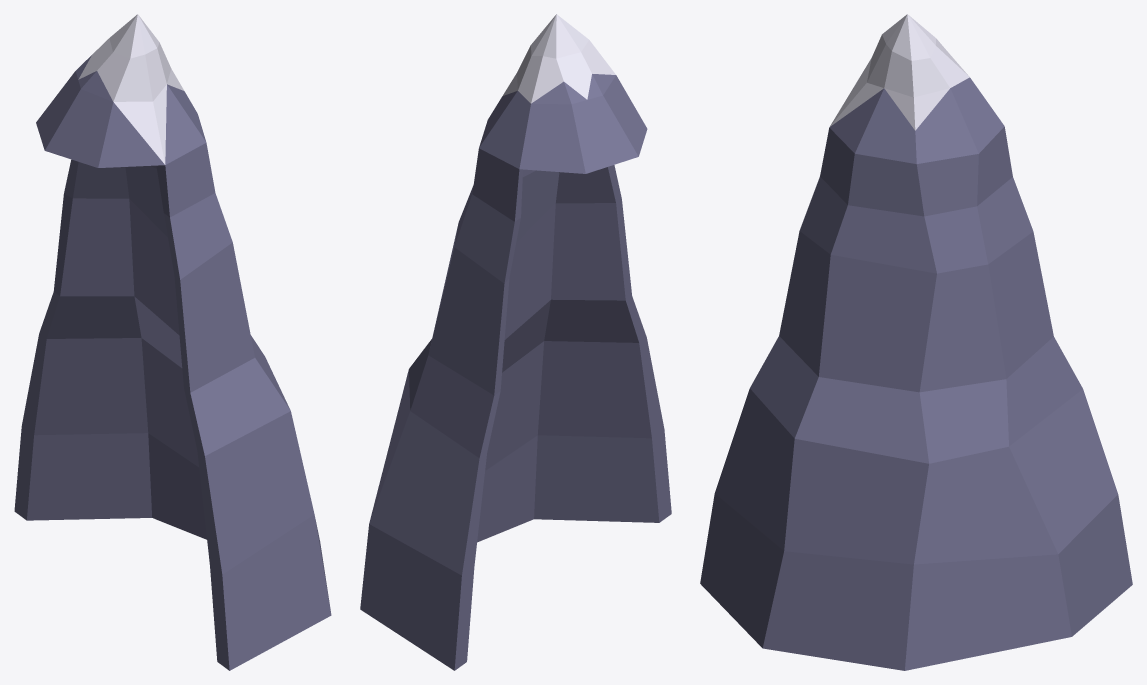
The model's file is mountain.fbx.
The picture shows the model from 3 angles, left to right: view 1: azimuth 30°, elevation 25°; view 2: azimuth 150°, elevation 25°; view 3: azimuth 270°, elevation 25°; orthographic projection.
Visible parts, largest first — view 1: Cylinder; view 2: Cylinder; view 3: Cylinder.
Boxes of the visible parts, left/top/right/bottom form: Cylinder: left=14, top=14, right=331, bottom=670; Cylinder: left=360, top=14, right=671, bottom=670; Cylinder: left=700, top=14, right=1132, bottom=670.
Size of the model in its own units: 5294 by 10861 by 7400.
